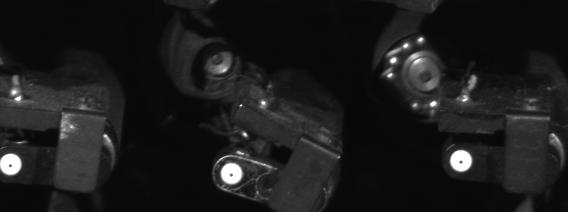fiber: (214, 159, 249, 189), (445, 147, 478, 178), (1, 148, 26, 181)
